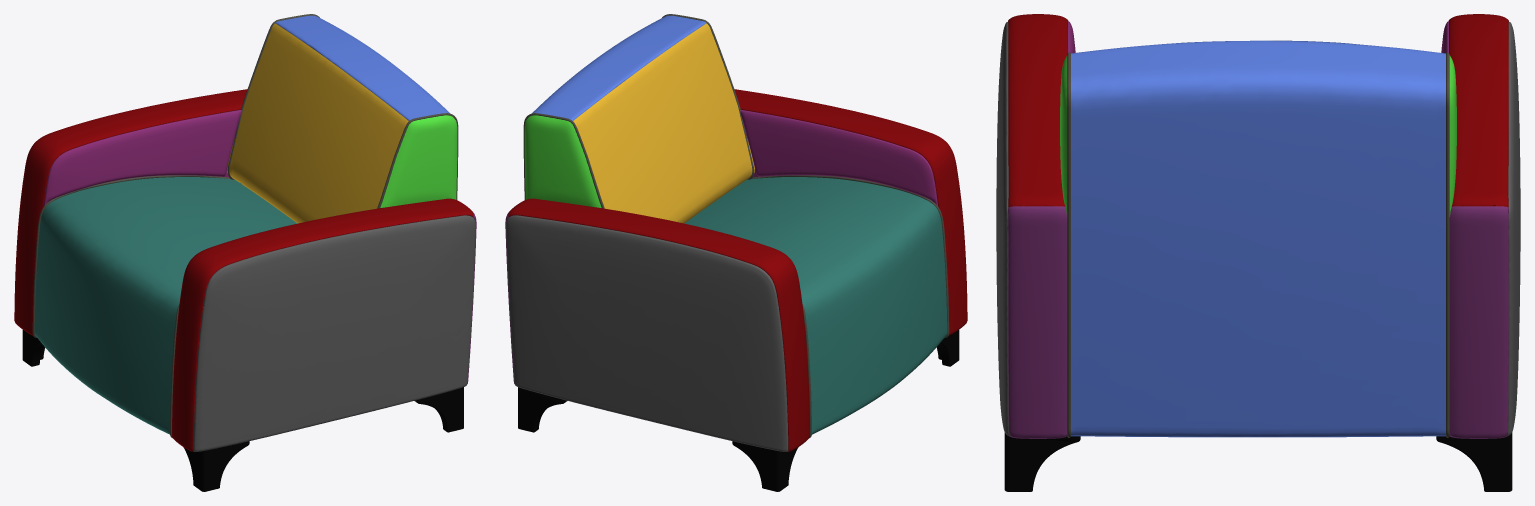
The picture shows the model from 3 angles, left to right: view 1: azimuth 30°, elevation 25°; view 2: azimuth 150°, elevation 25°; view 3: azimuth 270°, elevation 25°; orthographic projection. The views are drawn at different scales.
Parts seen in each view (by area): view 1: LATERAL_EXTERNA, ASSENTO, ENCOSTO_FRONTAL, LATERAL_TOP, LATERAL_INTERNA, ENCOSTO_TRASEIRO, ENCOSTO_LATERAL, PEZINHOS, VIVO_ASSENTO, VIVO_ENCOSTO; view 2: LATERAL_EXTERNA, ASSENTO, ENCOSTO_FRONTAL, LATERAL_TOP, LATERAL_INTERNA, ENCOSTO_TRASEIRO, ENCOSTO_LATERAL, PEZINHOS, VIVO_ASSENTO, VIVO_ENCOSTO; view 3: ENCOSTO_TRASEIRO, LATERAL_REAR, LATERAL_TOP, LATERAL_EXTERNA, PEZINHOS, VIVO_ENCOSTO, ENCOSTO_LATERAL.
Boxes of the visible parts, x1=… form: LATERAL_EXTERNA: x1=193, y1=215, x2=475, y2=451; ASSENTO: x1=34, y1=177, x2=297, y2=434; ENCOSTO_FRONTAL: x1=227, y1=23, x2=408, y2=223; LATERAL_TOP: x1=14, y1=89, x2=473, y2=451; LATERAL_INTERNA: x1=43, y1=110, x2=241, y2=274; ENCOSTO_TRASEIRO: x1=275, y1=15, x2=449, y2=120; ENCOSTO_LATERAL: x1=380, y1=115, x2=457, y2=207; PEZINHOS: x1=22, y1=330, x2=463, y2=491; VIVO_ASSENTO: x1=32, y1=175, x2=230, y2=437; VIVO_ENCOSTO: x1=227, y1=14, x2=458, y2=208; LATERAL_EXTERNA: x1=506, y1=215, x2=788, y2=451; ASSENTO: x1=684, y1=177, x2=947, y2=434; ENCOSTO_FRONTAL: x1=573, y1=23, x2=754, y2=223; LATERAL_TOP: x1=508, y1=89, x2=967, y2=451; LATERAL_INTERNA: x1=740, y1=110, x2=938, y2=274; ENCOSTO_TRASEIRO: x1=532, y1=15, x2=706, y2=120; ENCOSTO_LATERAL: x1=524, y1=115, x2=601, y2=207; PEZINHOS: x1=518, y1=330, x2=959, y2=491; VIVO_ASSENTO: x1=751, y1=175, x2=949, y2=437; VIVO_ENCOSTO: x1=523, y1=14, x2=754, y2=208; ENCOSTO_TRASEIRO: x1=1071, y1=40, x2=1445, y2=437; LATERAL_REAR: x1=1008, y1=206, x2=1508, y2=438; LATERAL_TOP: x1=1008, y1=14, x2=1508, y2=207; LATERAL_EXTERNA: x1=996, y1=22, x2=1520, y2=436; PEZINHOS: x1=1004, y1=432, x2=1512, y2=491; VIVO_ENCOSTO: x1=1067, y1=52, x2=1449, y2=437; ENCOSTO_LATERAL: x1=1060, y1=55, x2=1456, y2=216.
Bounding box in the file's own units: 0.7623 × 0.7376 × 0.819.
